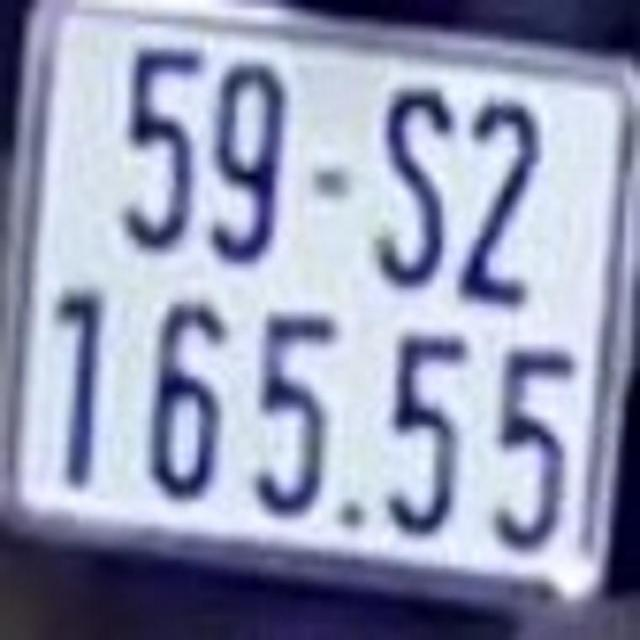1: (46, 284, 97, 486)
2: (464, 89, 540, 305)
5: (493, 337, 576, 545), (389, 324, 467, 538), (121, 39, 199, 250), (252, 306, 331, 514)
6: (148, 291, 224, 503)
9: (208, 54, 278, 260)
S: (375, 81, 459, 296)
